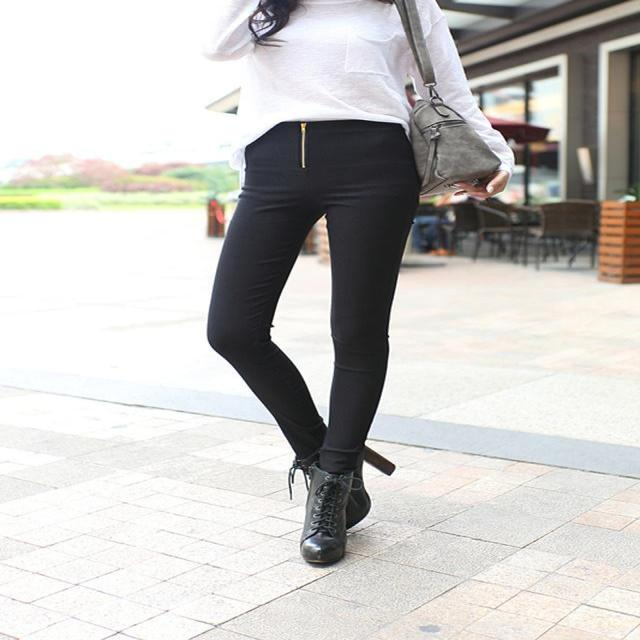trousers: (157, 122, 496, 470)
